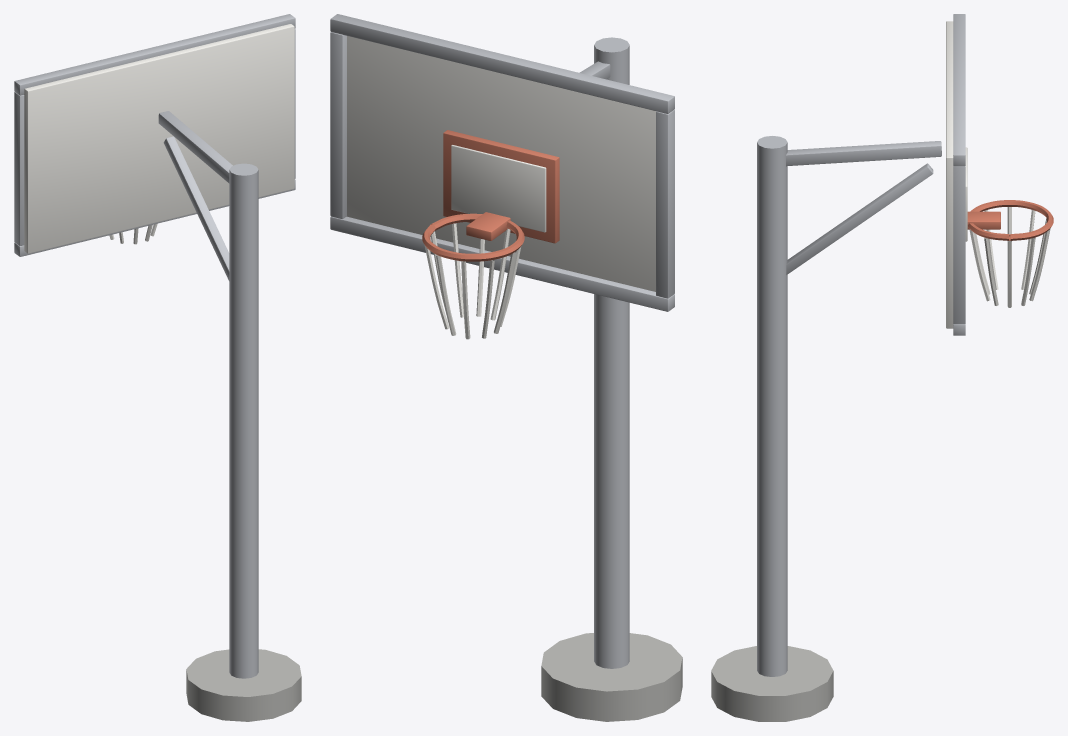
File: th42_basketballkorb.glb
3 renders of one model, left to right at view 1: azimuth 30°, elevation 25°; view 2: azimuth 150°, elevation 25°; view 3: azimuth 270°, elevation 25°, orthographic. The views are drawn at different scales.
Visible parts, largest first — view 1: Cube.002, Cylinder, Cylinder.001, Cube.003, Cube.001, Cube.005, Cube, Cube.004; view 2: Cube.002, Cylinder, Cylinder.001, Cube.003, Cube.008, Cube.004, Cube.007, Cube.005, Cube.006, Korbring, Cube.009; view 3: Cylinder, Cylinder.001, Cube, Cube.002, Cube.001, Cube.006, Cube.003, Korbring, Cube.009.
Boxes of the visible parts, bbox=[...] form: Cube.002: bbox=[24, 24, 294, 253]; Cylinder: bbox=[229, 163, 258, 678]; Cylinder.001: bbox=[186, 649, 301, 721]; Cube.003: bbox=[14, 14, 295, 95]; Cube.001: bbox=[163, 136, 229, 280]; Cube.005: bbox=[14, 92, 24, 245]; Cube: bbox=[158, 111, 232, 183]; Cube.004: bbox=[14, 179, 295, 256]; Cube.002: bbox=[346, 36, 655, 291]; Cylinder: bbox=[594, 37, 629, 668]; Cylinder.001: bbox=[541, 633, 682, 721]; Cube.003: bbox=[330, 14, 674, 113]; Cube.008: bbox=[451, 145, 546, 232]; Cube.004: bbox=[330, 216, 674, 311]; Cube.007: bbox=[443, 130, 559, 243]; Cube.005: bbox=[656, 109, 674, 298]; Cube.006: bbox=[330, 32, 346, 218]; Korbring: bbox=[422, 213, 524, 261]; Cube.009: bbox=[466, 212, 510, 240]; Cylinder: bbox=[757, 136, 787, 676]; Cylinder.001: bbox=[711, 646, 833, 721]; Cube: bbox=[786, 141, 941, 166]; Cube.002: bbox=[946, 21, 953, 328]; Cube.001: bbox=[786, 163, 933, 274]; Cube.006: bbox=[953, 166, 965, 324]; Cube.003: bbox=[953, 14, 965, 166]; Korbring: bbox=[968, 200, 1053, 240]; Cube.009: bbox=[967, 211, 1000, 229].
Size of the model in its own units: 1.86 by 3.76 by 1.9.
